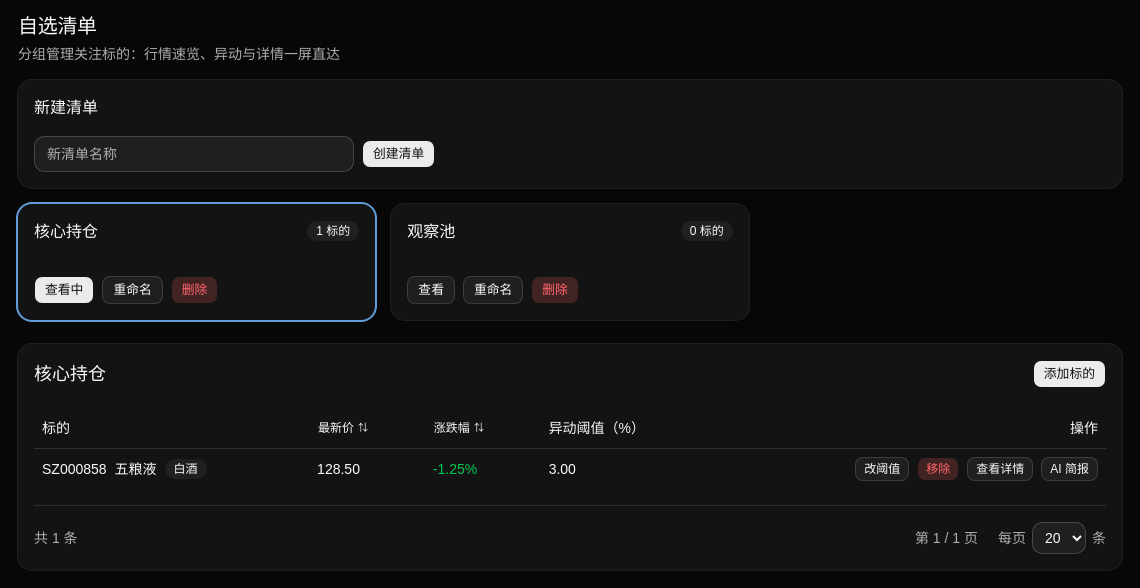
it: Watchlist 管理页 › 创建清单 30011(409) 同名：展示同名错误
Expected: the row with test id "watchlist-item-row-10" is shown, [34,448,1106,488]
Step 1. Type "核心持仓" into the field with test id "watchlist-create-name" → (194, 154), box [34,136,354,172]
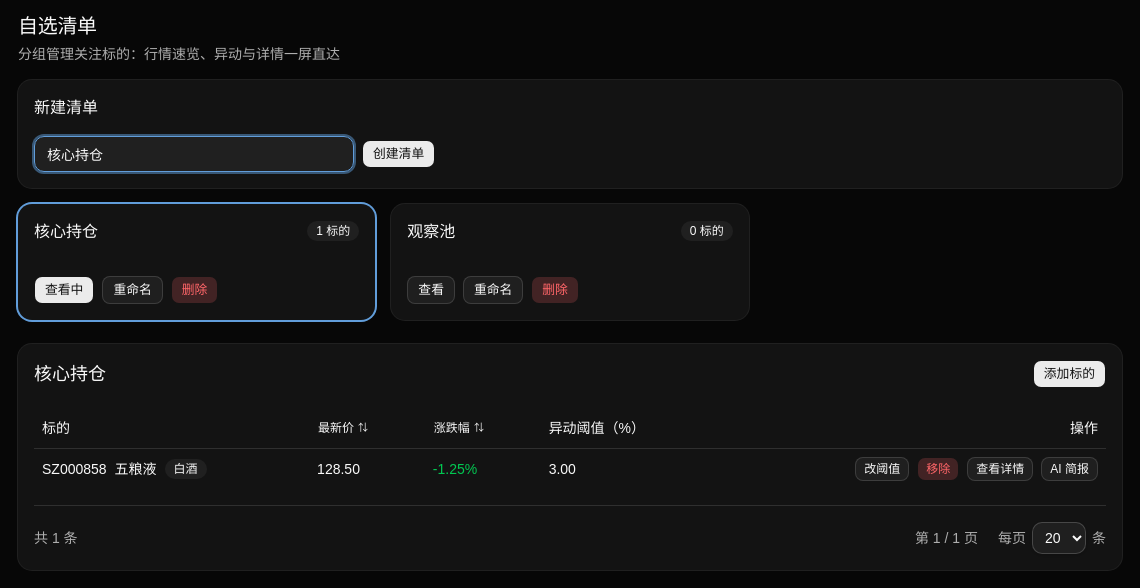
Step 2. Click the button with test id "watchlist-create-submit" → (399, 154), box [362,140,435,168]
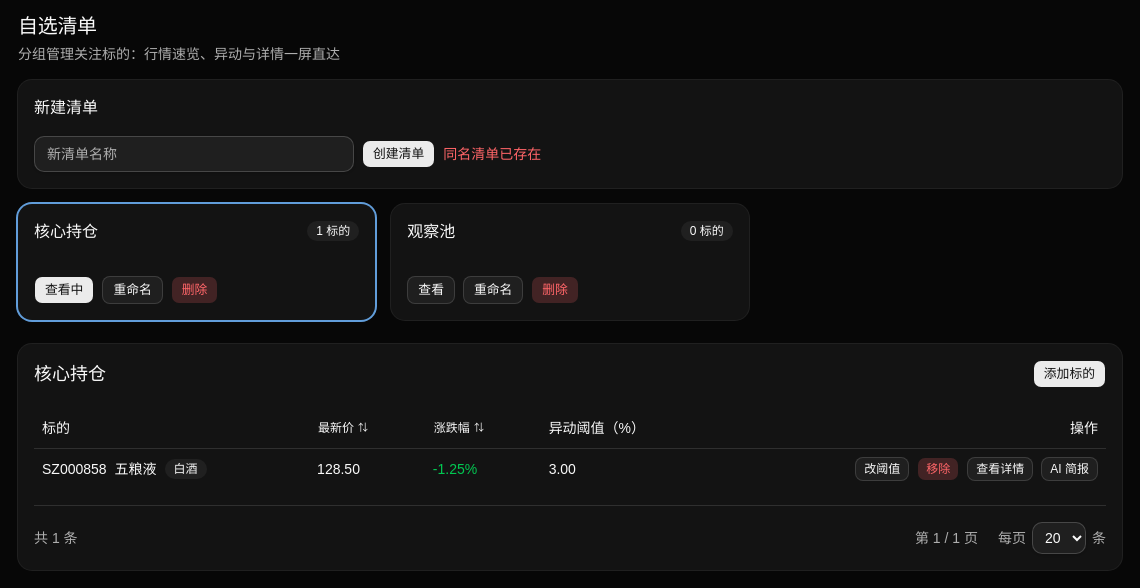
Result: the text with test id "watchlist-create-error" reads "同名清单已存在" at [443,146,541,162]
